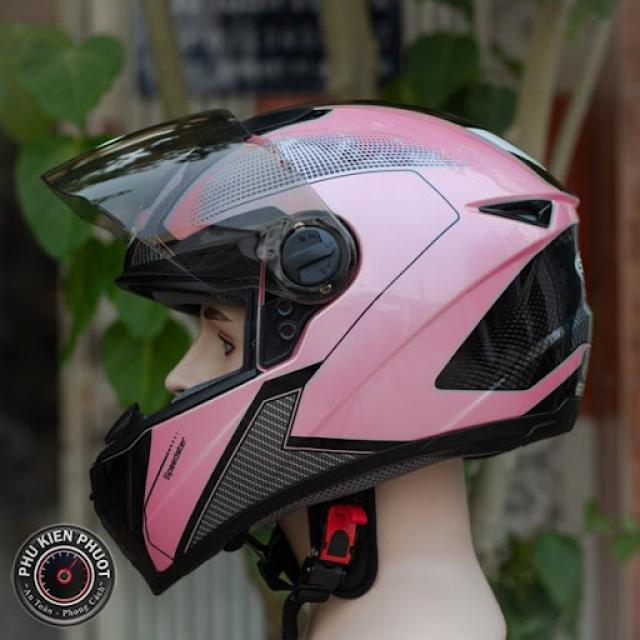Helmet: (39, 98, 595, 592)
